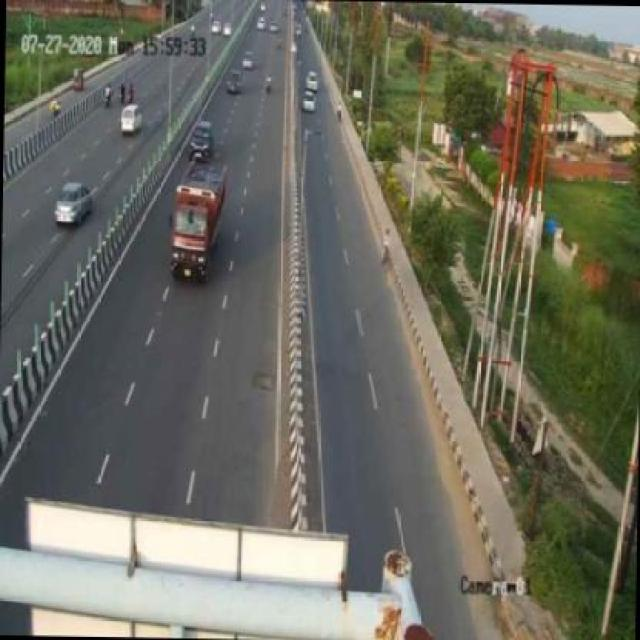car: (54, 182, 95, 226), (185, 117, 220, 161), (117, 105, 146, 138), (300, 89, 317, 114)
